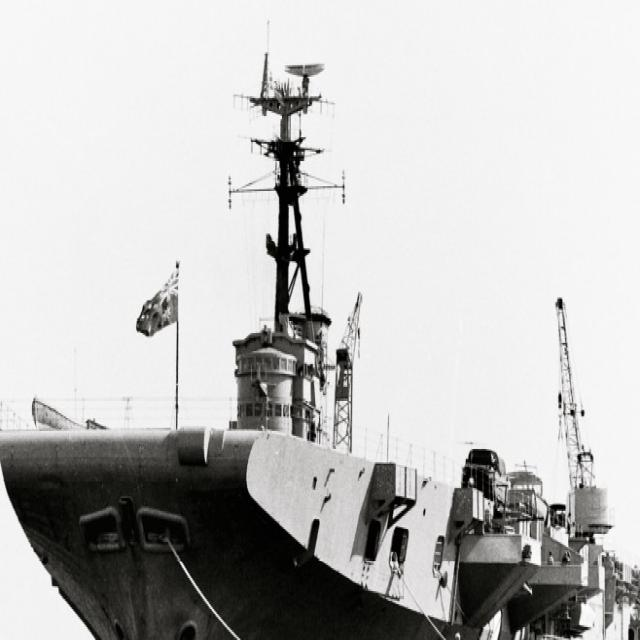Portanaves: (1, 40, 640, 640)
